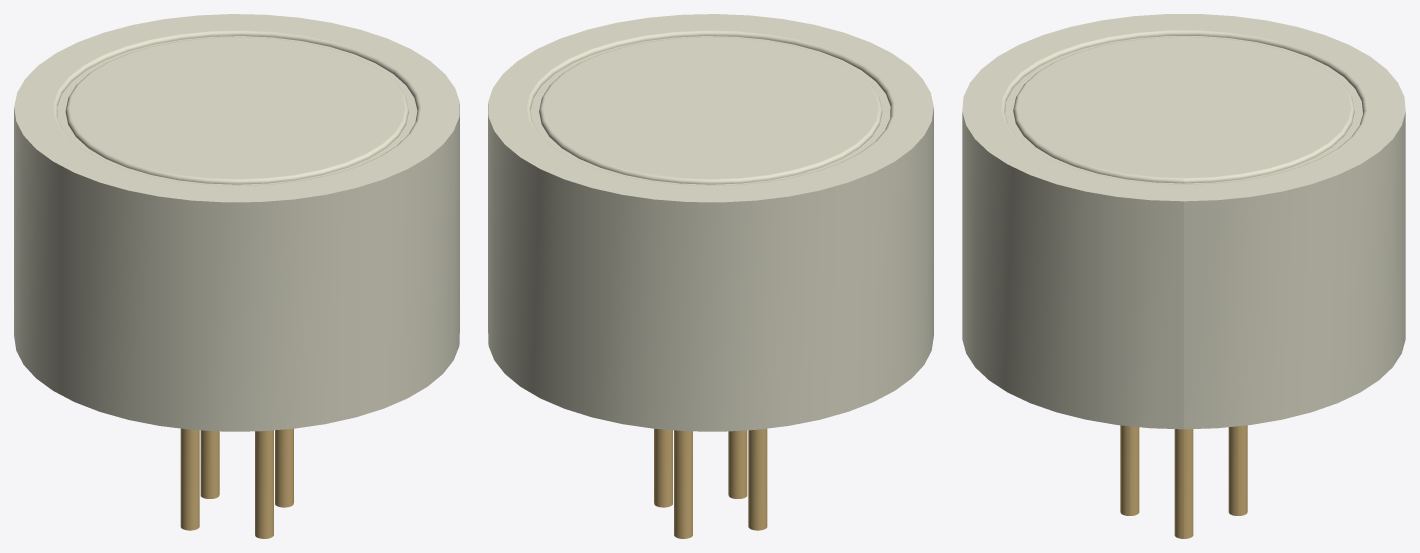
The model's file is kc-analog_to-46-4_thermalshield.glb.
3 renders of one model, left to right at view 1: azimuth 30°, elevation 25°; view 2: azimuth 150°, elevation 25°; view 3: azimuth 270°, elevation 25°, orthographic.
Visible parts, largest first — view 1: 0.75_0.75_0.6666666666666666_0, 0.75_0.5_0.25_0.9; view 2: 0.75_0.75_0.6666666666666666_0, 0.75_0.5_0.25_0.9; view 3: 0.75_0.75_0.6666666666666666_0, 0.75_0.5_0.25_0.9.
Boxes of the visible parts, x1,y1,x2,y2 form: 0.75_0.75_0.6666666666666666_0: (14, 14, 459, 431); 0.75_0.5_0.25_0.9: (180, 428, 293, 538); 0.75_0.75_0.6666666666666666_0: (488, 14, 933, 431); 0.75_0.5_0.25_0.9: (654, 428, 767, 538); 0.75_0.75_0.6666666666666666_0: (962, 14, 1405, 429); 0.75_0.5_0.25_0.9: (1120, 425, 1247, 538).
Bounding box in the file's own units: 1.04 × 1.05 × 1.04.
